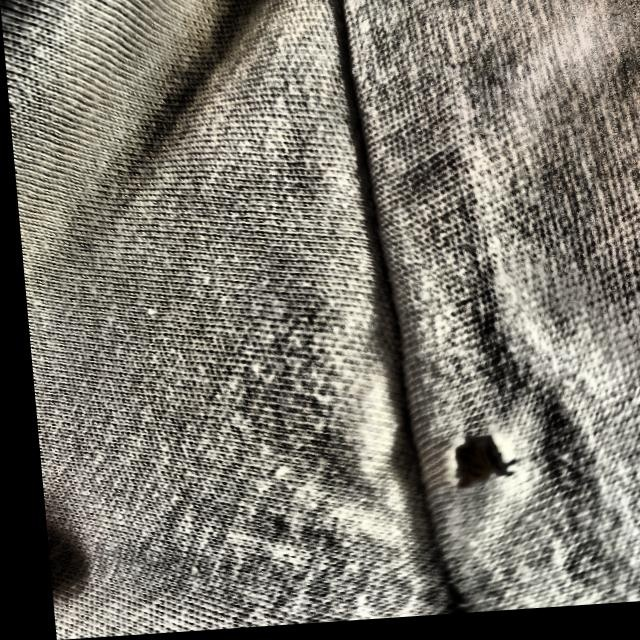Hole: (430, 411, 534, 512)
